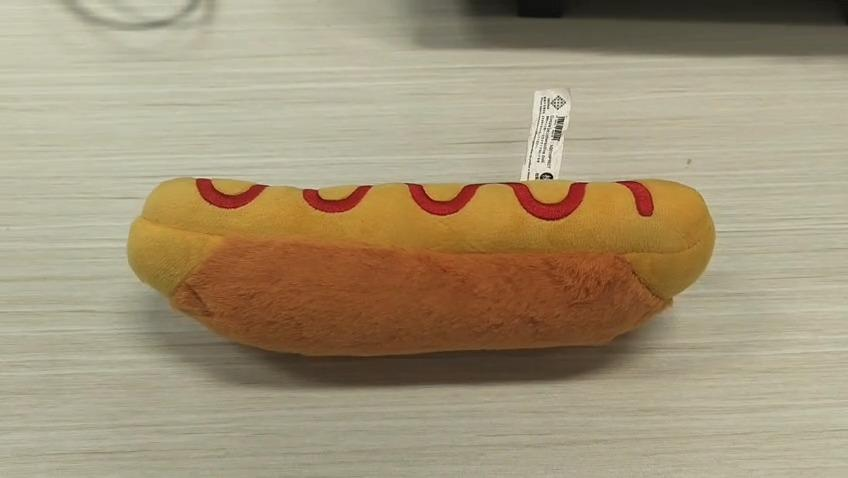hotdog: (126, 179, 716, 361)
